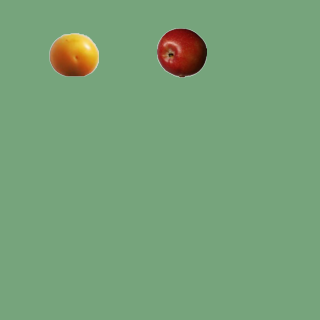Apple Braeburn: (156, 27, 206, 77)
Cherry Wax Yellow: (48, 29, 98, 79)
